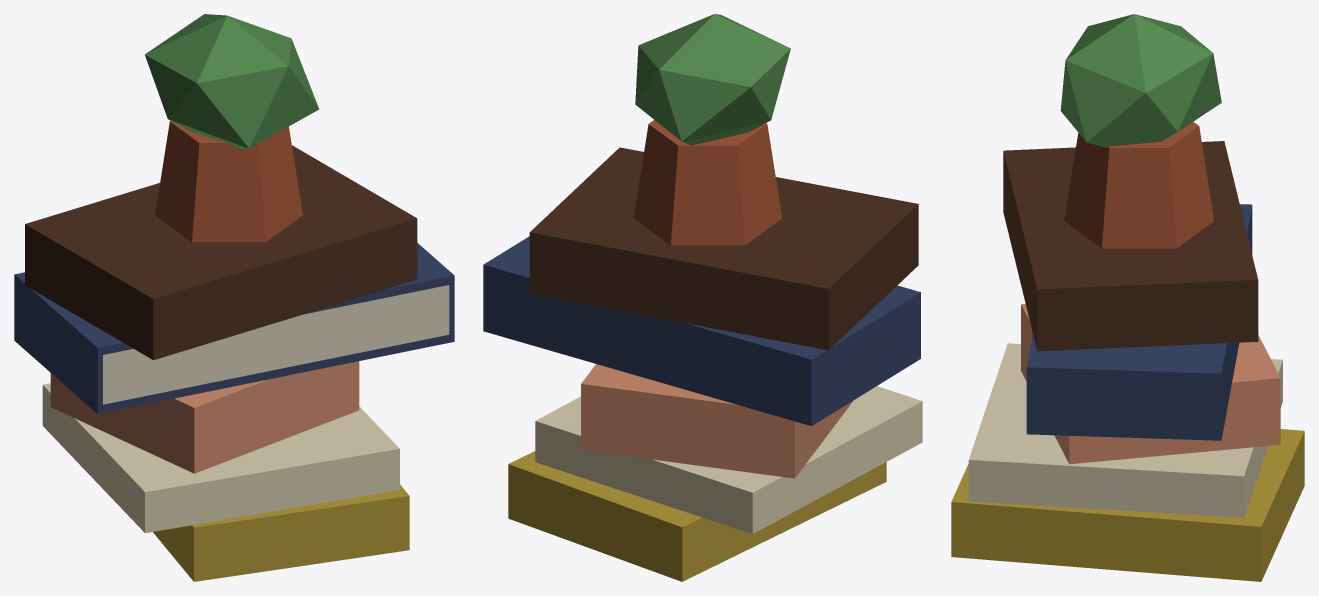
The model's file is book-stack-02.glb.
3 views of the same model, side by side, from view 1: azimuth 30°, elevation 25°; view 2: azimuth 150°, elevation 25°; view 3: azimuth 270°, elevation 25° (orthographic).
Visible parts, largest first — view 1: book_stack_02; view 2: book_stack_02; view 3: book_stack_02.
Part boxes in pixels (x1=…): book_stack_02: x1=14, y1=14, x2=454, y2=581; book_stack_02: x1=483, y1=14, x2=922, y2=581; book_stack_02: x1=951, y1=14, x2=1304, y2=581.
Bounding box in the file's own units: 0.277 × 0.3663 × 0.2358.
